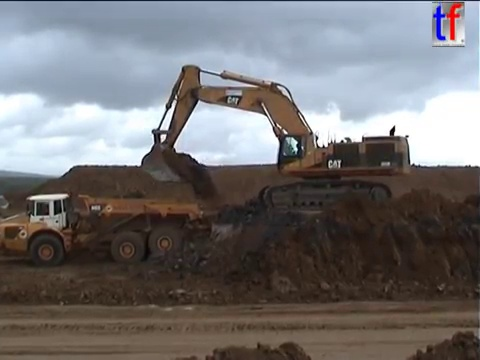excavator: (138, 63, 413, 218)
truck: (1, 191, 220, 268)
